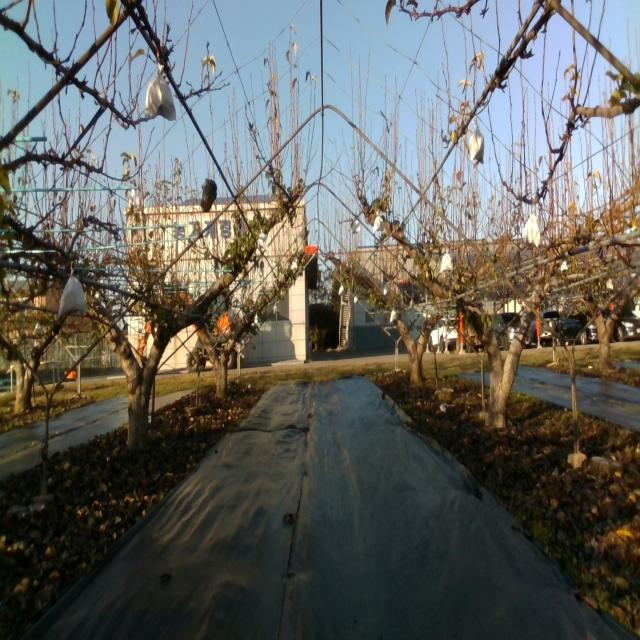pearbags: (144, 62, 178, 123), (58, 269, 88, 318), (468, 118, 484, 164), (524, 215, 542, 250), (439, 247, 454, 274), (258, 230, 268, 253)
